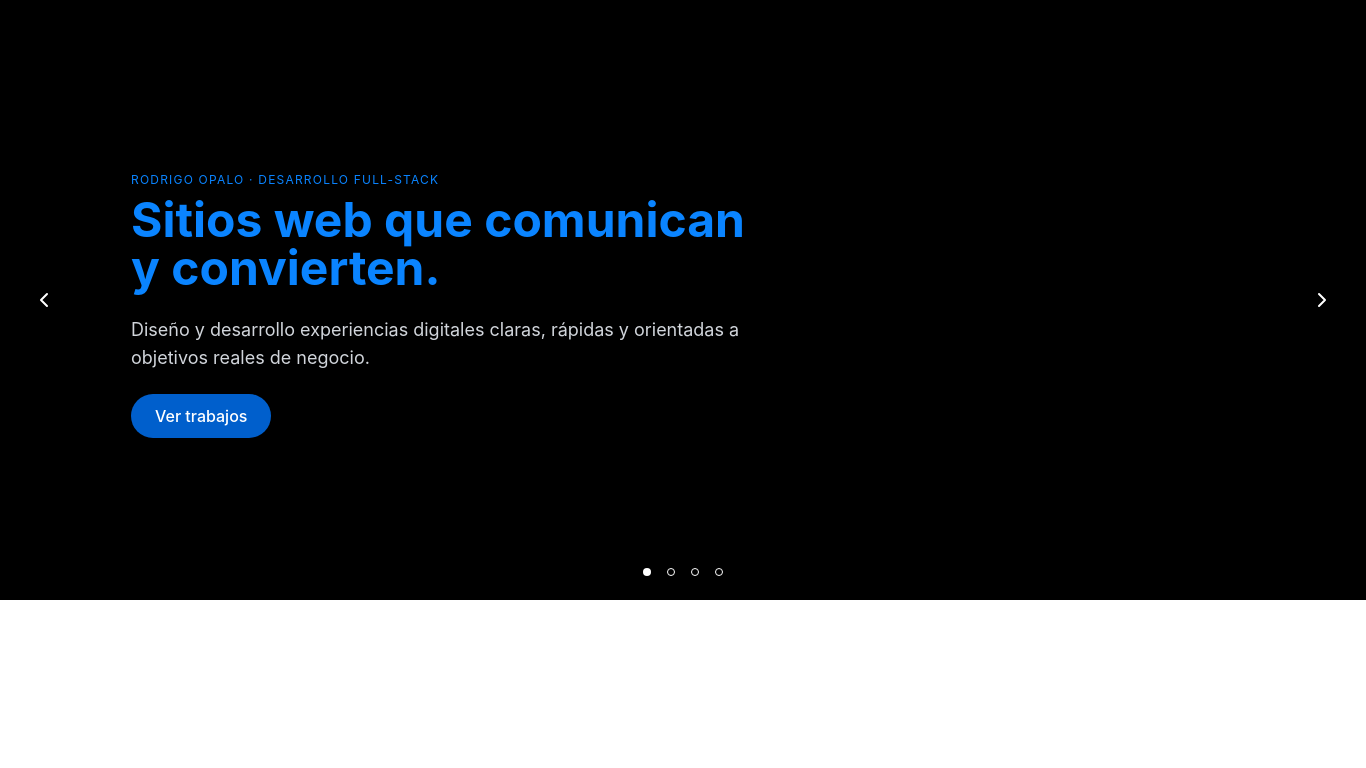
Scenario: HeroSlider resilience › preserves touch navigation
The image size is (1366, 768).
Press the mouse on the element with id "hero" at {"x": 683, "y": 300}, box top-left (0, 0), bottom-right (1365, 600)
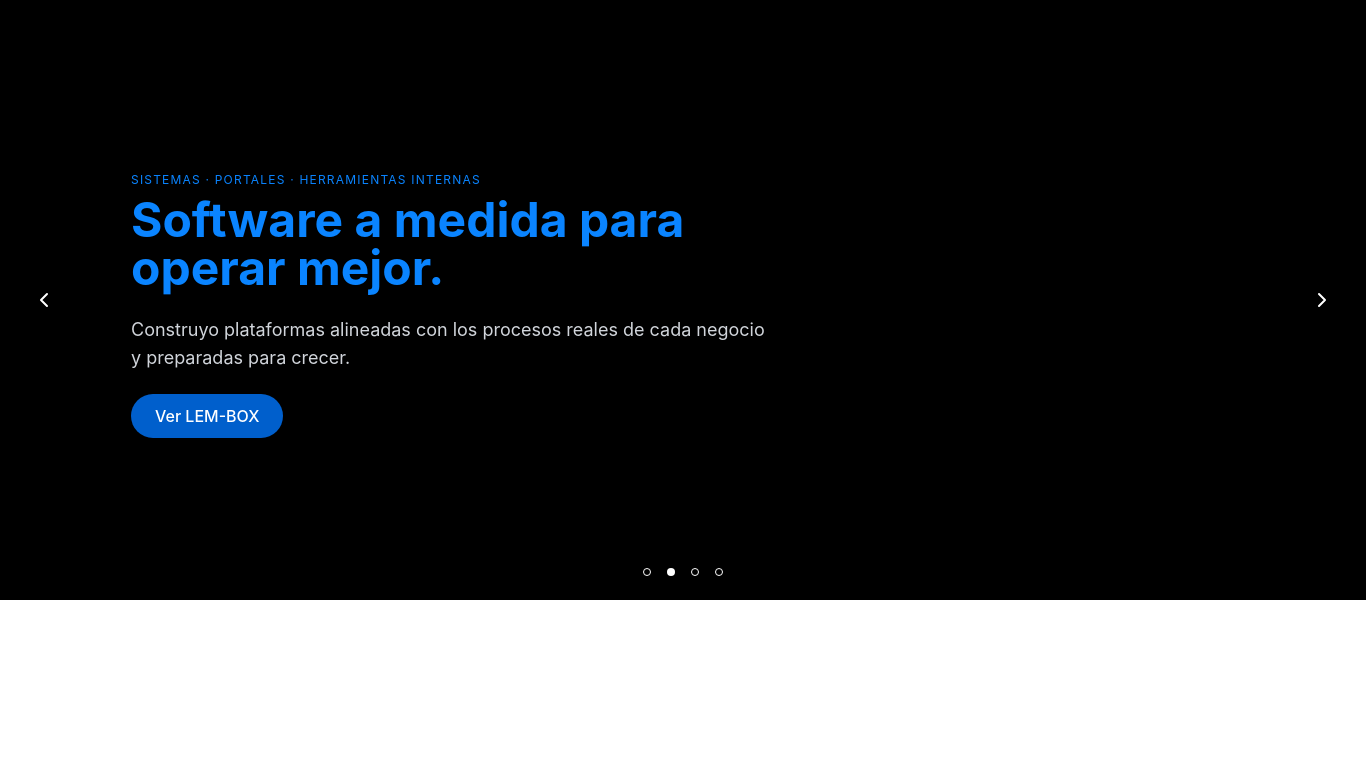
Check: the heading "Software a medida para operar mejor." is shown, box top-left (131, 196), bottom-right (771, 292)
